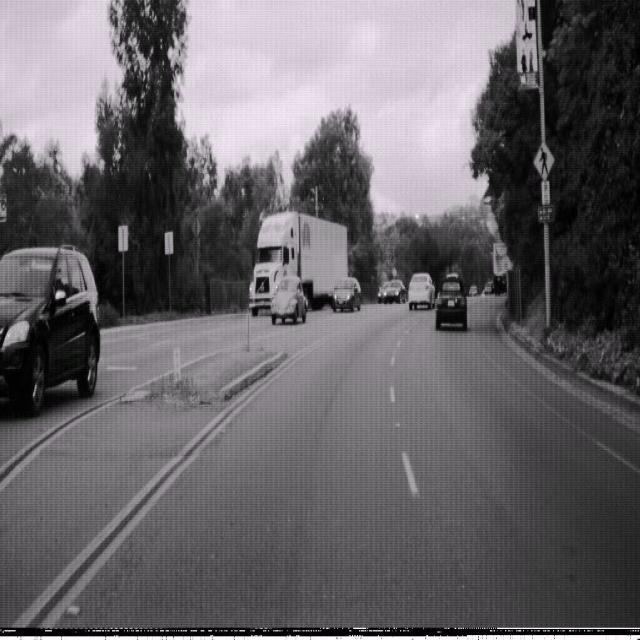pedestrianCrossing: (533, 138, 555, 182)
